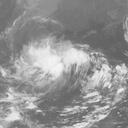cyclone: (30, 38, 90, 83)
